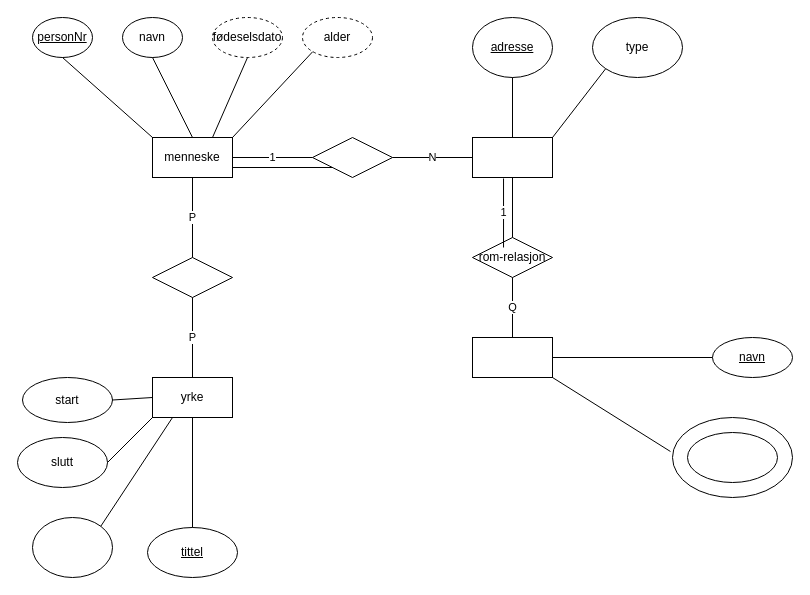
This 810x595 diagram has some shape labels left out. Each missing label, with the box of its shape:
bo-relasjon: (312, 136, 392, 178)
bolig: (472, 136, 552, 178)
Bruksområder: (686, 432, 778, 482)
jobb: (152, 256, 232, 298)
lønn: (32, 516, 112, 578)
rom: (472, 336, 552, 378)
